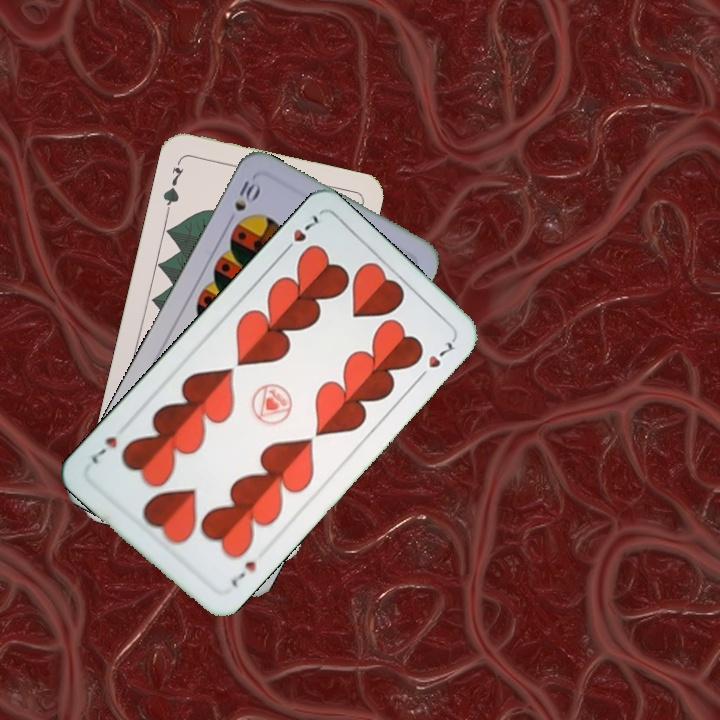G7: (158, 156, 187, 214)
H7: (277, 211, 322, 258), (226, 556, 259, 591)
S10: (223, 176, 264, 231)
